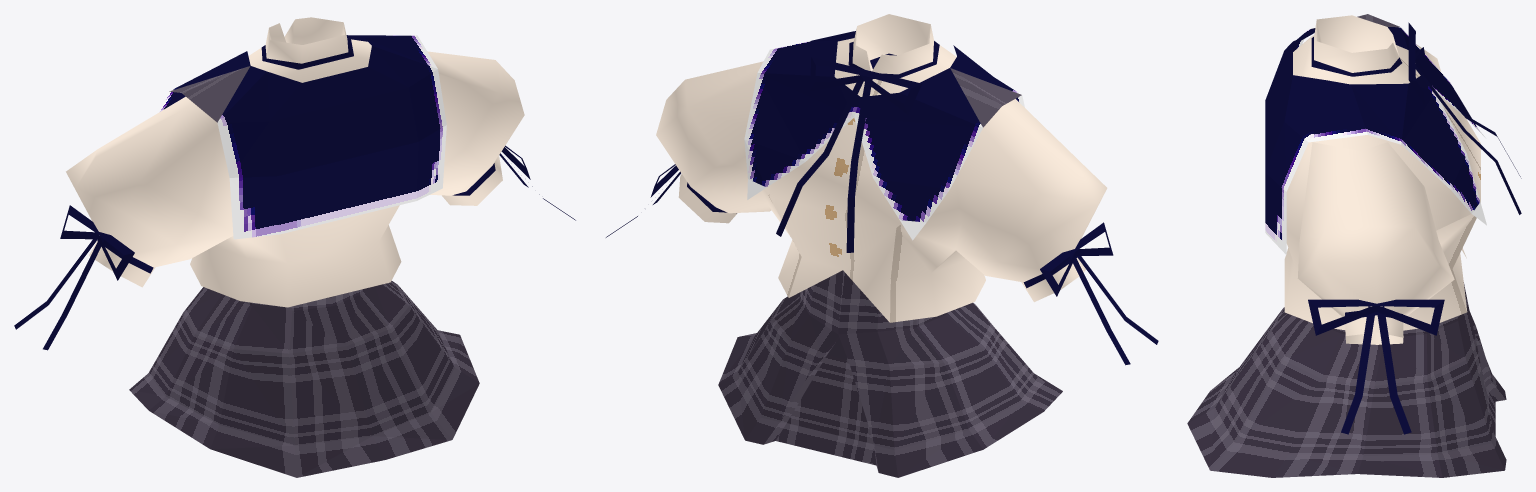
File: ps2_save-icons_memoriesoffduet-1st2ndstories-original.glb
3 views of the same model, side by side, from view 1: azimuth 30°, elevation 25°; view 2: azimuth 150°, elevation 25°; view 3: azimuth 270°, elevation 25° (orthographic). The views are drawn at different scales.
Visible parts, largest first — view 1: icon.ico; view 2: icon.ico; view 3: icon.ico.
Boxes of the visible parts, x1,y1,x2,y2 form: icon.ico: (14, 17, 575, 477); icon.ico: (606, 14, 1158, 477); icon.ico: (1187, 14, 1521, 477).
Bounding box in the file's own units: 4.68 × 3.21 × 2.43.
1 material, 1 textured.
